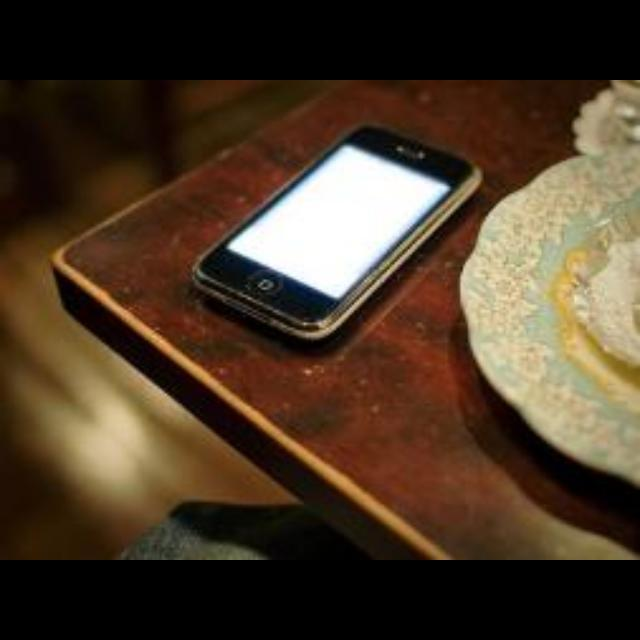phone: (196, 131, 459, 344)
